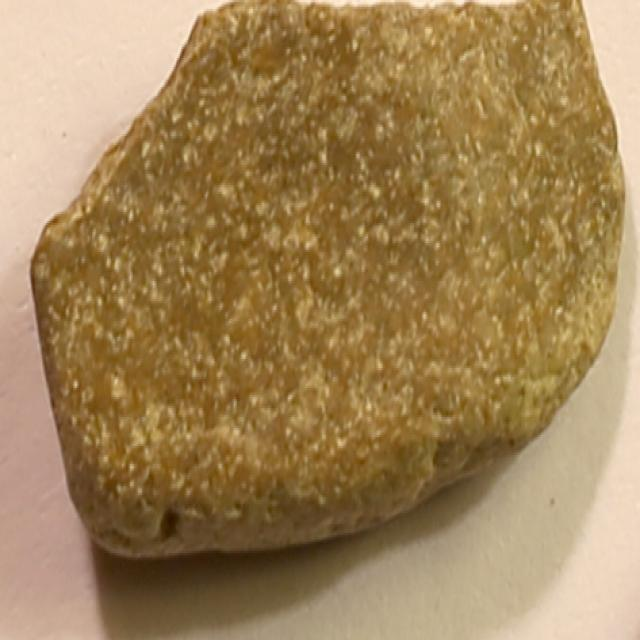stone: (29, 5, 628, 570)
